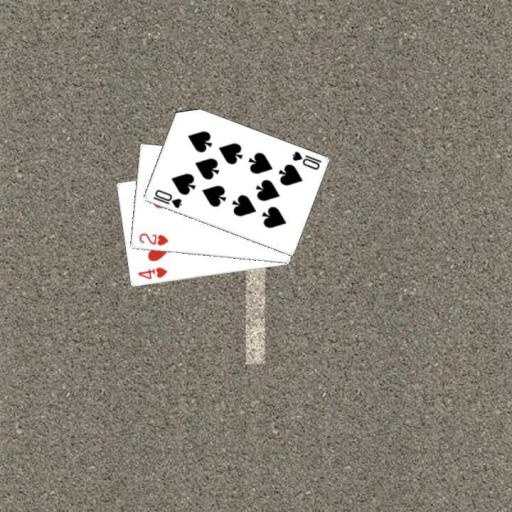10S: (150, 186, 184, 210), (288, 148, 323, 171)
2H: (135, 230, 170, 248)
4H: (135, 264, 169, 281)
